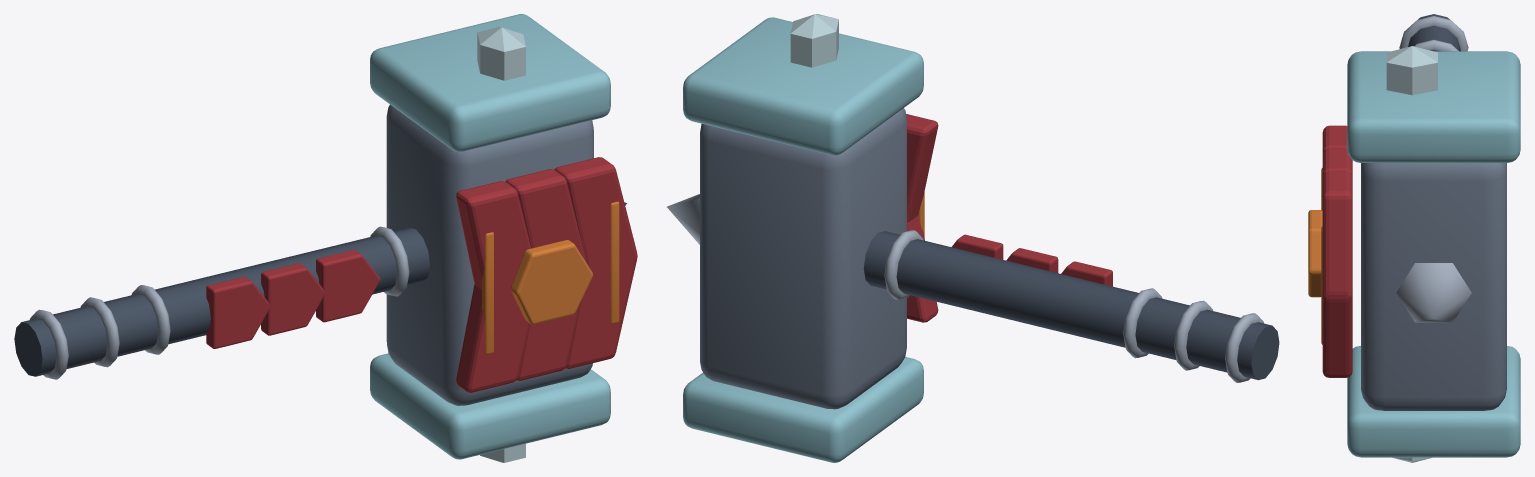
File: wpn_wyrmbreaker.glb
3 views of the same model, side by side, from view 1: azimuth 30°, elevation 25°; view 2: azimuth 150°, elevation 25°; view 3: azimuth 270°, elevation 25° (orthographic). The views are drawn at different scales.
Visible parts, largest first — view 1: object 1, box.002, box.001, crystal.001, box.003, box.004, torus.001, torus.002, torus, torus.003; view 2: object 1, box.002, box.001, crystal.001, torus.002, torus.001, torus, torus.003; view 3: object 1, box.002, box.001, crystal.001, torus, torus.001, box.004.
Boxes of the visible parts, <box> form: object 1: <box>14,104,637,405</box>; box.002: <box>370,14,610,152</box>; box.001: <box>370,353,610,459</box>; crystal.001: <box>477,27,525,80</box>; box.003: <box>482,232,493,354</box>; box.004: <box>610,201,619,324</box>; torus.001: <box>80,297,119,367</box>; torus.002: <box>131,285,170,354</box>; torus: <box>29,309,68,379</box>; torus.003: <box>370,226,409,296</box>; object 1: <box>667,108,1279,409</box>; box.002: <box>683,17,923,155</box>; box.001: <box>683,357,923,462</box>; crystal.001: <box>790,14,838,67</box>; torus.002: <box>1123,288,1162,358</box>; torus.001: <box>1174,300,1213,370</box>; torus: <box>1225,313,1263,382</box>; torus.003: <box>884,230,923,299</box>; object 1: <box>1308,14,1506,410</box>; box.002: <box>1347,51,1520,162</box>; box.001: <box>1347,346,1520,457</box>; crystal.001: <box>1386,46,1437,95</box>; torus: <box>1399,16,1468,51</box>; torus.001: <box>1414,39,1458,51</box>; box.004: <box>1321,226,1322,344</box>.
Bounding box in the file's own units: 1.53 × 1.06 × 0.4901.
